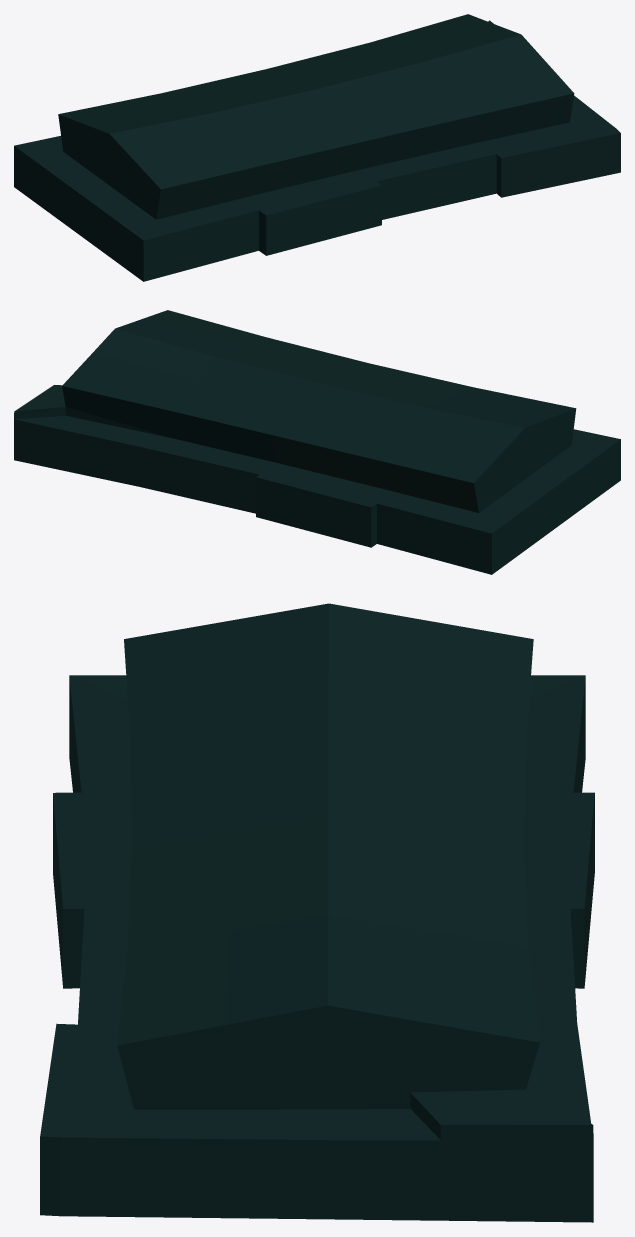
Rendered from grave_002_stone_0_lev1.glb.
3 views of the same model, one above another, from view 1: azimuth 30°, elevation 25°; view 2: azimuth 150°, elevation 25°; view 3: azimuth 270°, elevation 25° (orthographic). The views are drawn at different scales.
Visible parts, largest first — view 1: grave_002_stone_0_lev1; view 2: grave_002_stone_0_lev1; view 3: grave_002_stone_0_lev1.
Part boxes in pixels (x1,y1,x2,y2): grave_002_stone_0_lev1: (14,14,620,281); grave_002_stone_0_lev1: (14,310,620,574); grave_002_stone_0_lev1: (40,603,594,1222).
Bounding box in the file's own units: 1.72 × 0.3192 × 0.8683.
